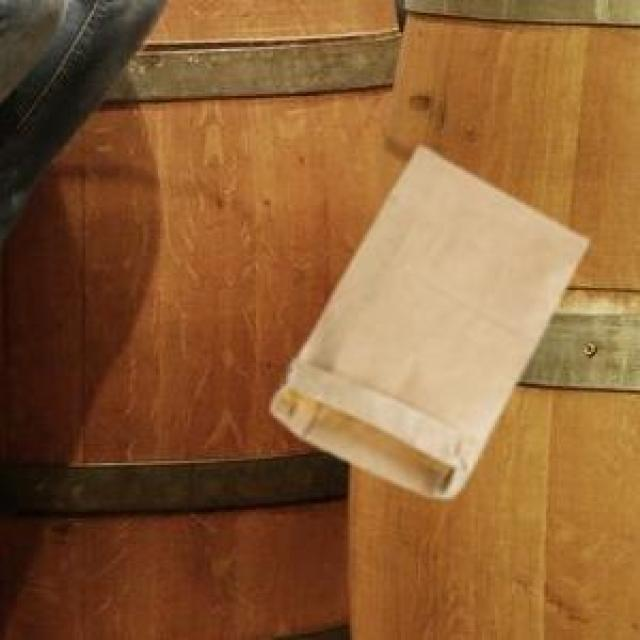paper: (269, 143, 582, 493)
